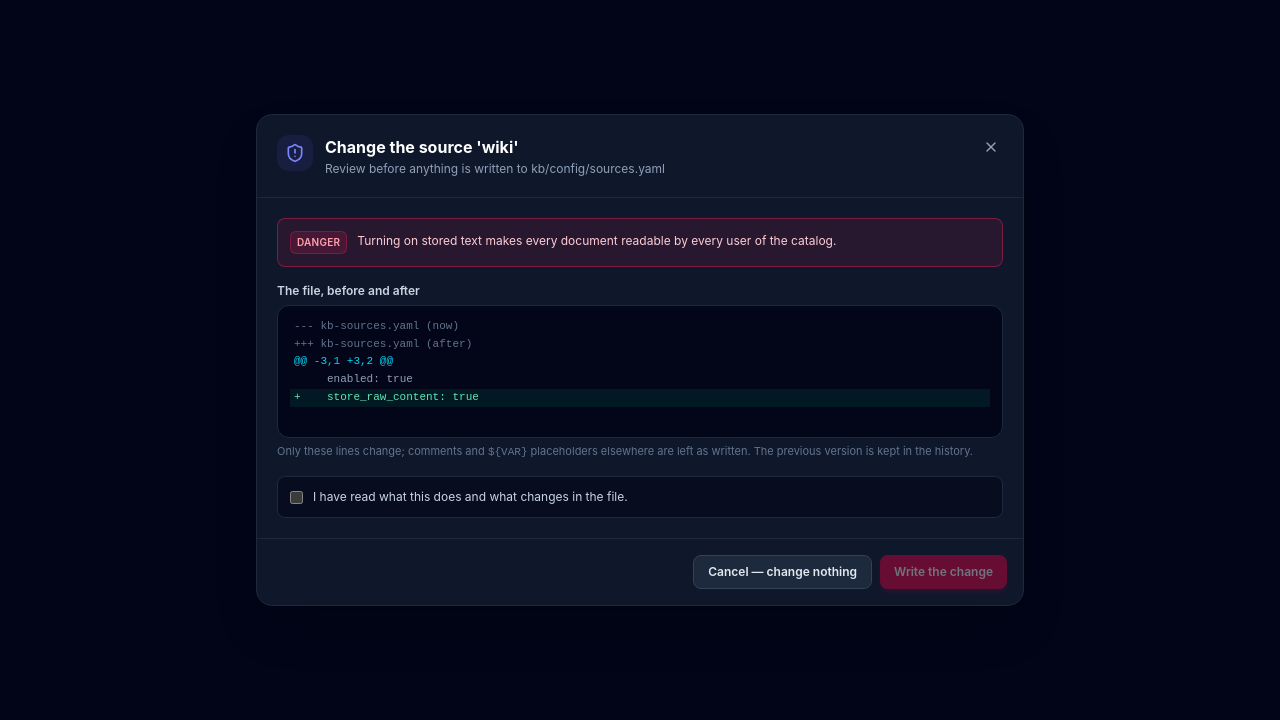
Test: ApprovalDialog › shows why a write was refused, and stays open
Click the checkbox labelled "I have read what this does and what changes in the file.".
click(296, 497)  # box top-left (290, 491), bottom-right (303, 504)
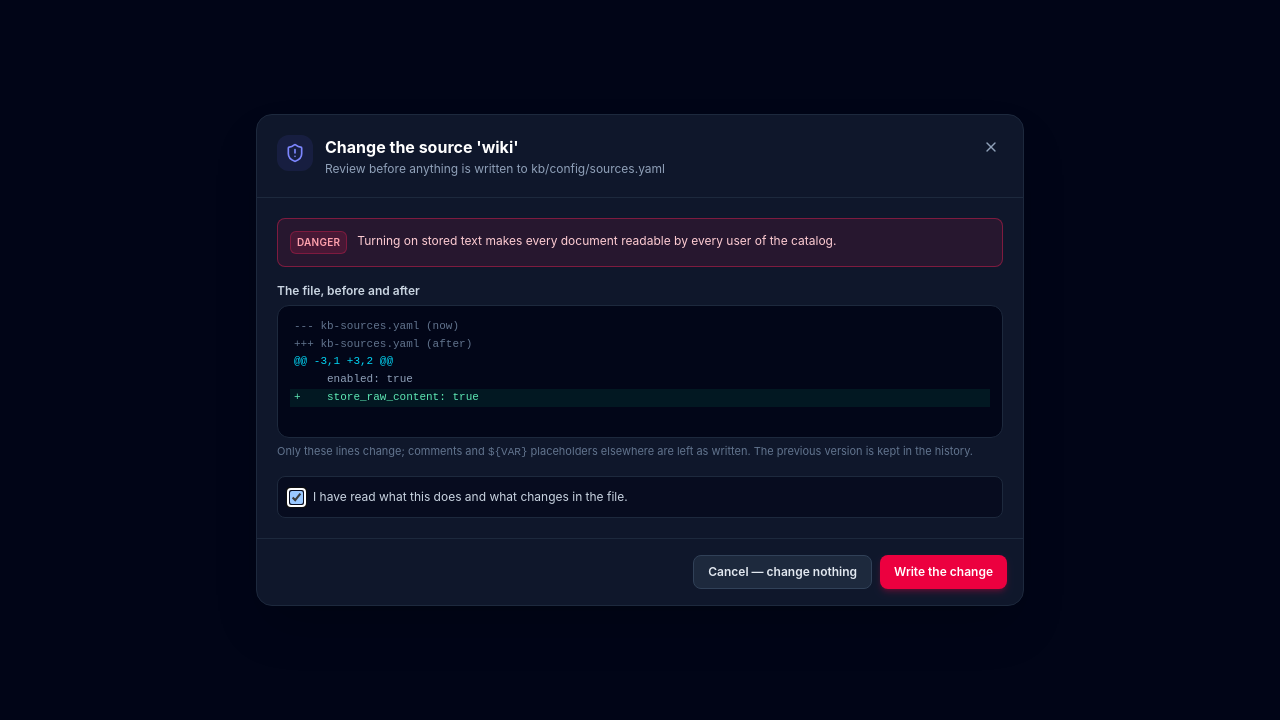
Click the button "Write the change".
click(944, 572)  # box top-left (880, 555), bottom-right (1007, 589)
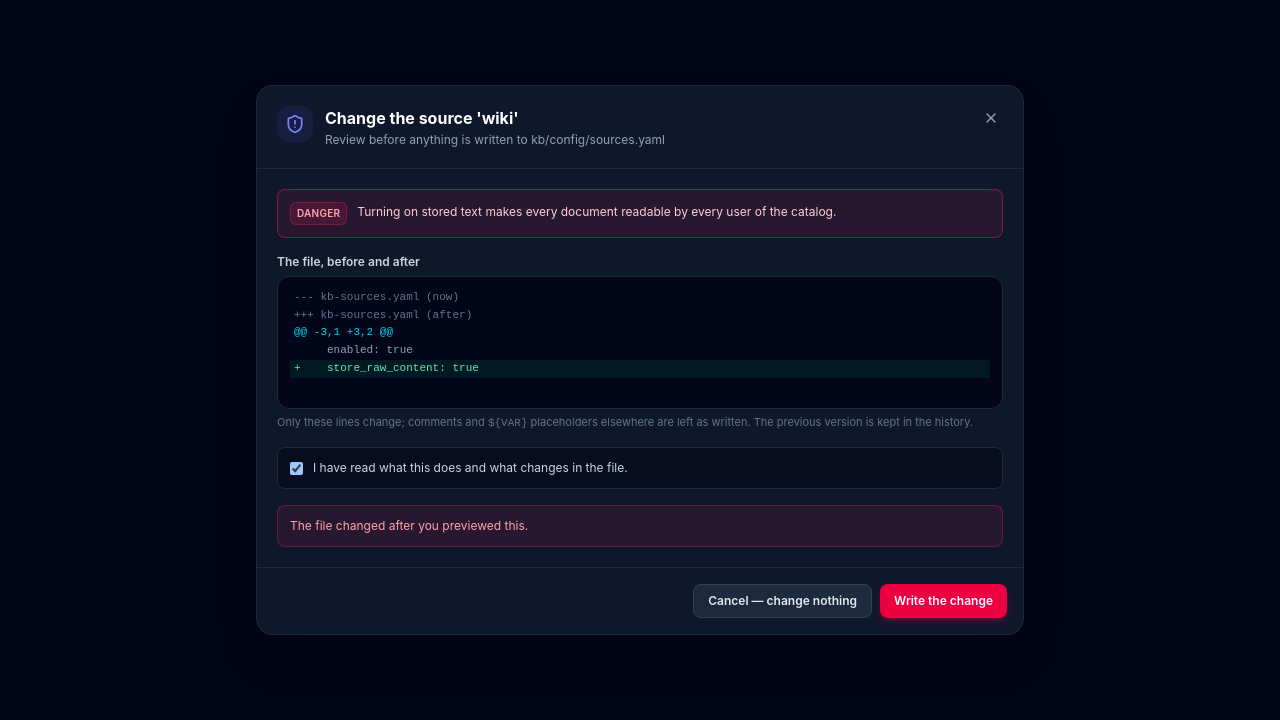
Check: the button "Write the change" is enabled, box top-left (880, 584), bottom-right (1007, 618)
Check: the message reads "The file changed after you previewed this.", box top-left (290, 518), bottom-right (528, 533)
